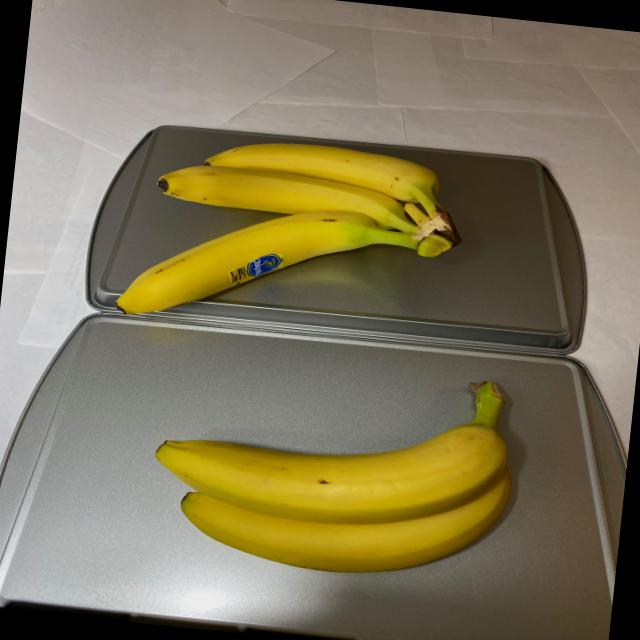banana: (135, 342, 532, 592), (105, 124, 472, 351)
